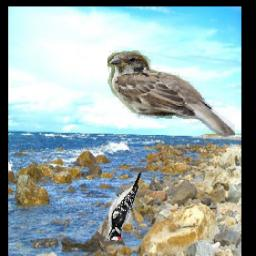Sparrow: (108, 51, 235, 138)
Woodpecker: (105, 170, 142, 241)
